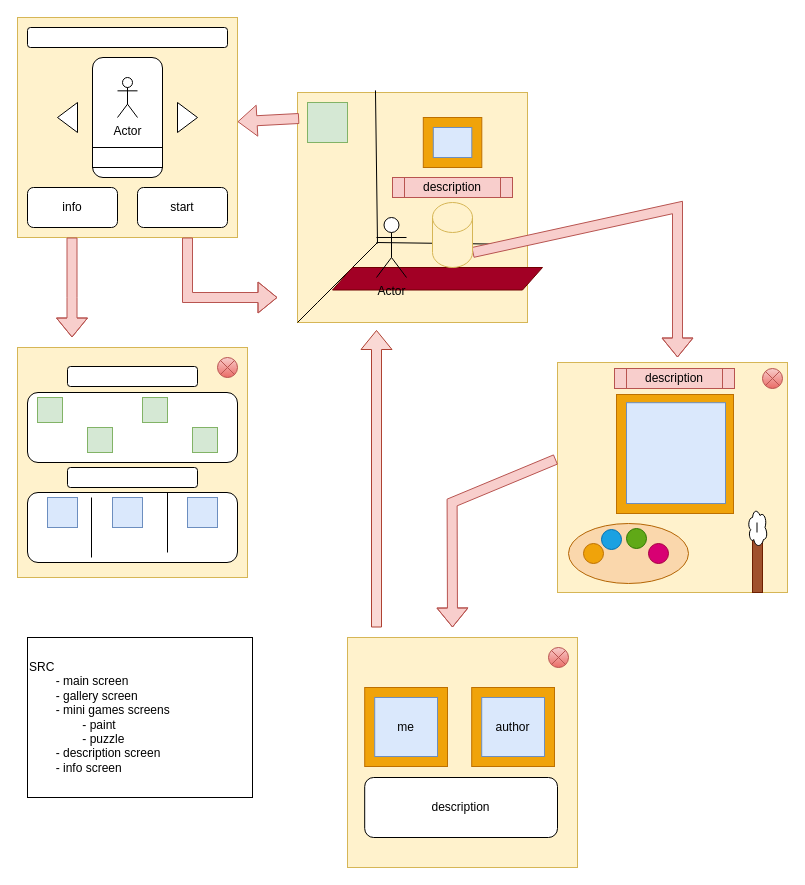
Image size: 805x885. Some labels were removed from this diagram. Each missing label, with the box of its shape:
authors: (66, 466, 198, 488)
menu: (306, 102, 348, 142)
press E: (432, 202, 472, 268)
rules: (66, 366, 198, 386)
the-path-of-great-people: (26, 26, 228, 48)
